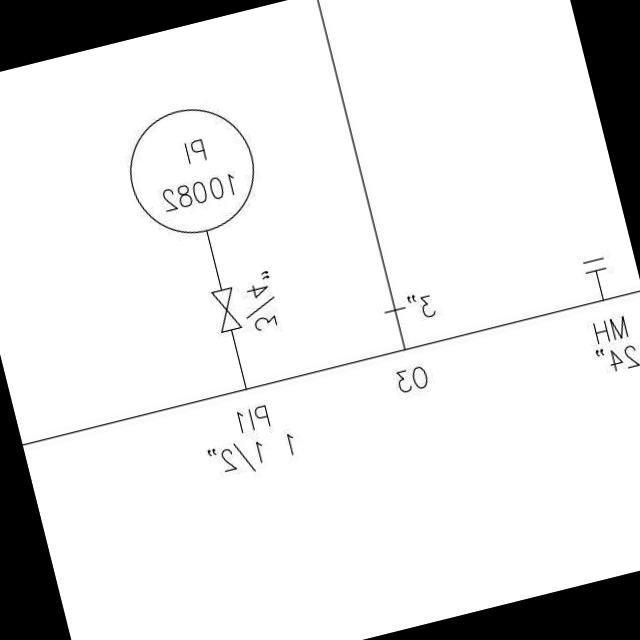GV: (204, 278, 247, 338)
